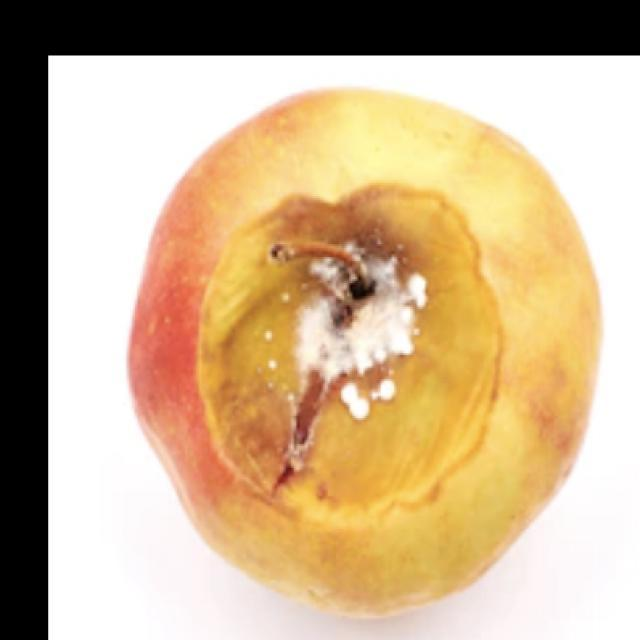Rotten: (119, 83, 606, 615)
